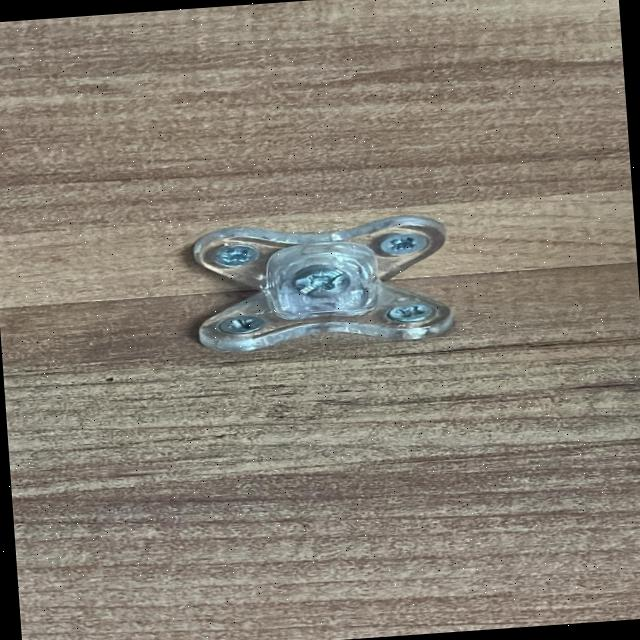Phillips: (290, 264, 354, 302)
Pozidriv: (377, 228, 436, 258), (210, 240, 260, 270), (212, 314, 268, 338), (384, 298, 434, 324)
